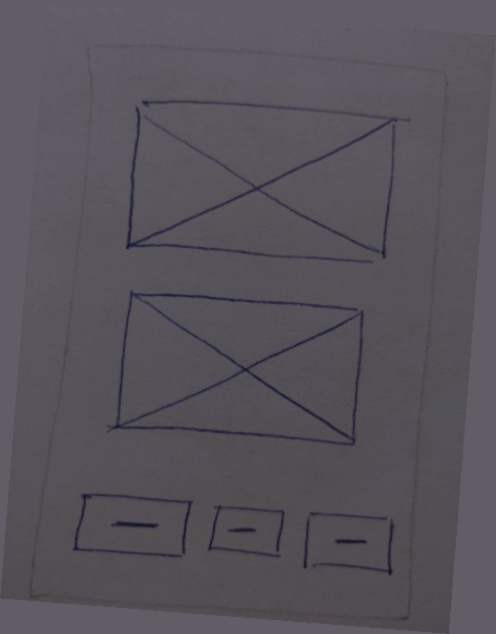button: (69, 480, 200, 568), (294, 498, 404, 584), (200, 494, 293, 570)
image: (116, 85, 412, 275), (98, 279, 384, 456)
